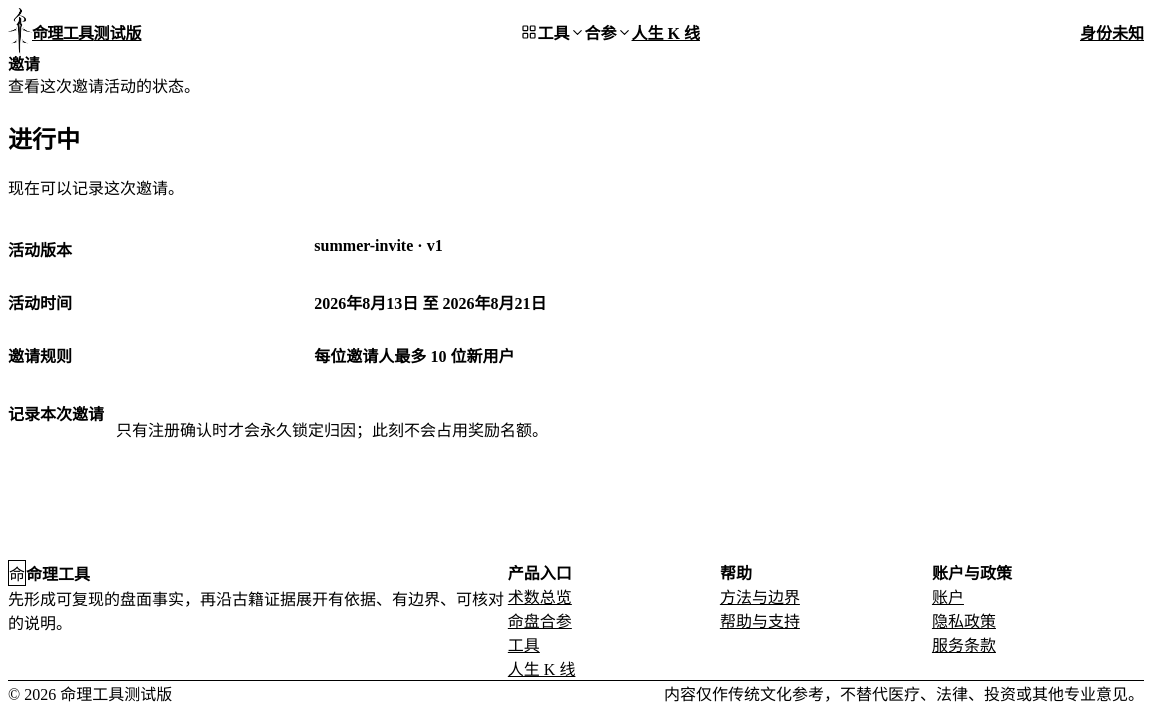
Test: public invite route wiring › renders server-backed active status and records then clears attribution
Expected: the heading "邀请" is shown, 8,56 -> 39,73
Expected: the text "查看这次邀请活动的状态。" is shown, 8,78 -> 200,95
Click the button "记录本次邀请" at (56, 413), box 8,401 -> 104,425
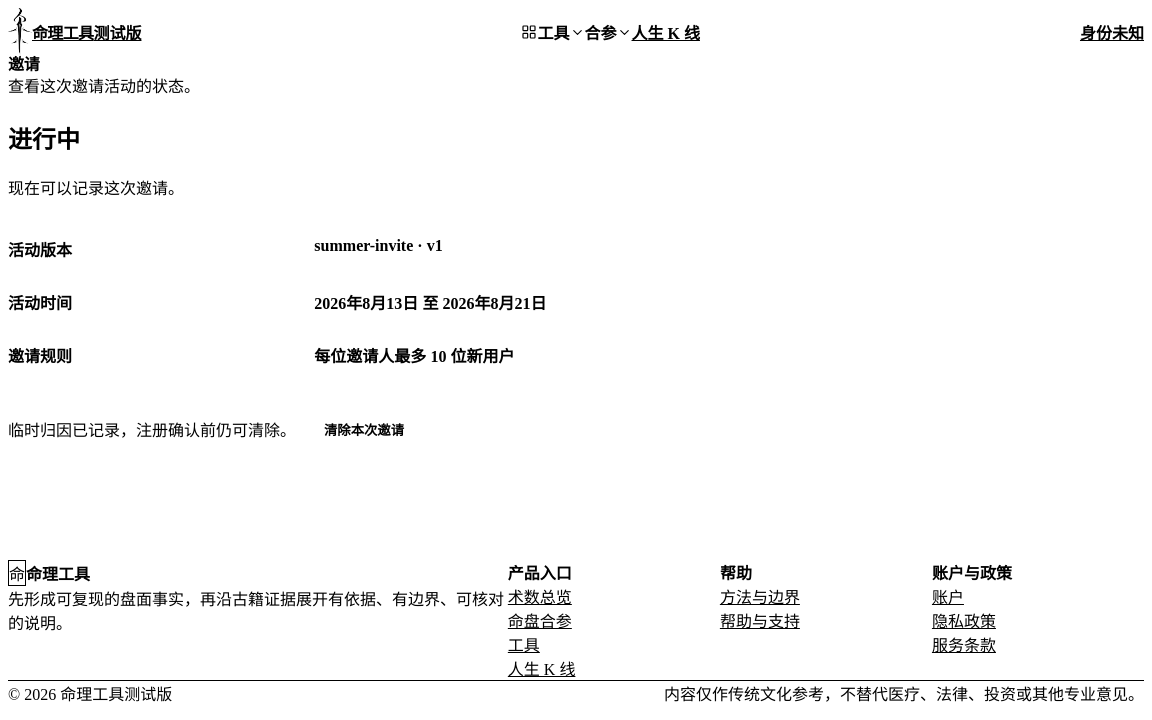
Result: the text "临时归因已记录，注册确认前仍可清除。" is shown at 8,417 -> 296,441
Click the button "清除本次邀请" at (364, 429), box 308,401 -> 420,457
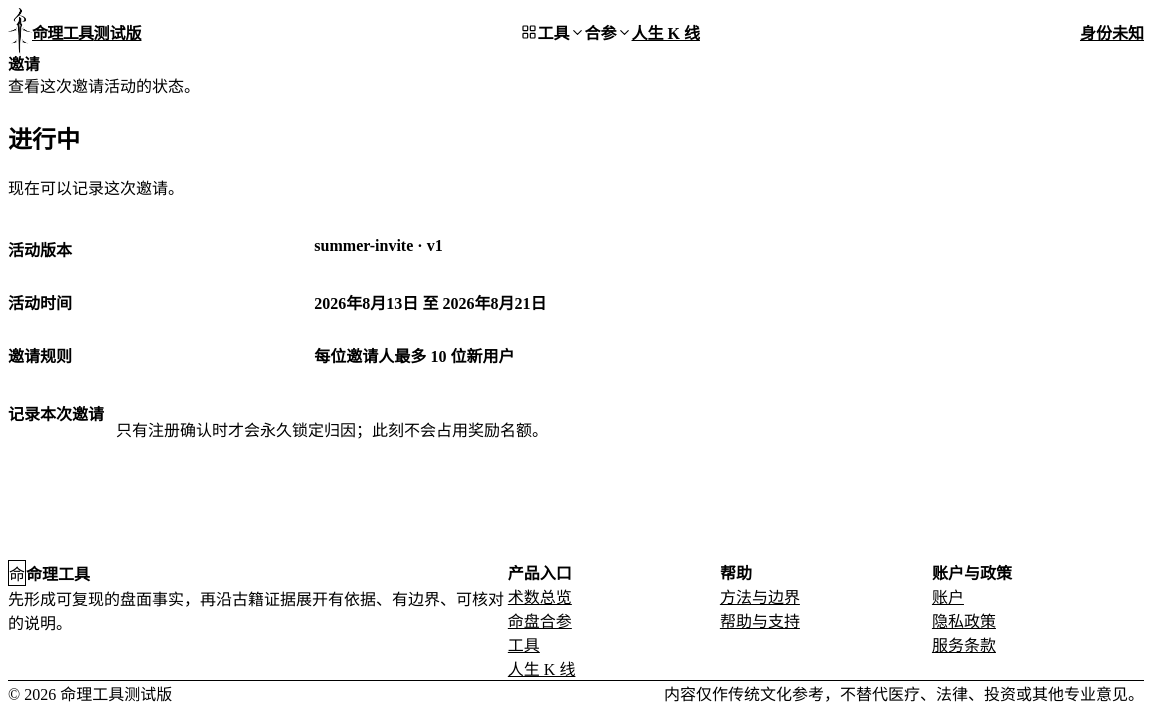
Result: the button "记录本次邀请" is shown at 8,401 -> 104,425
